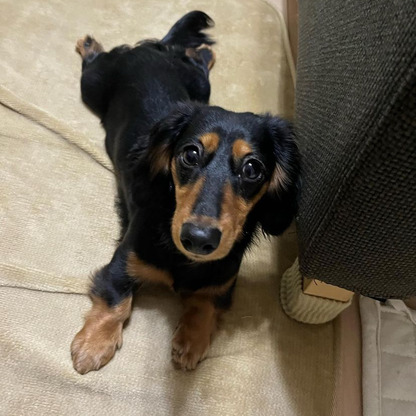dachshund: (48, 19, 315, 394)
